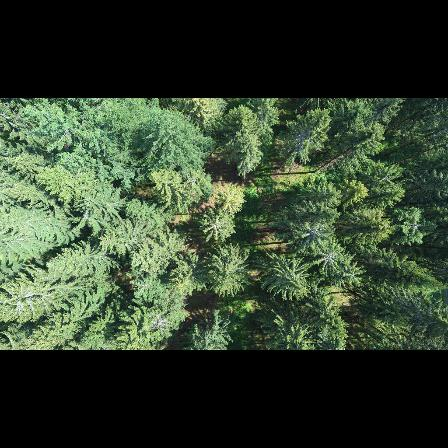Sick: (290, 218, 335, 251), (197, 213, 238, 243), (312, 244, 346, 274), (145, 308, 177, 338)
